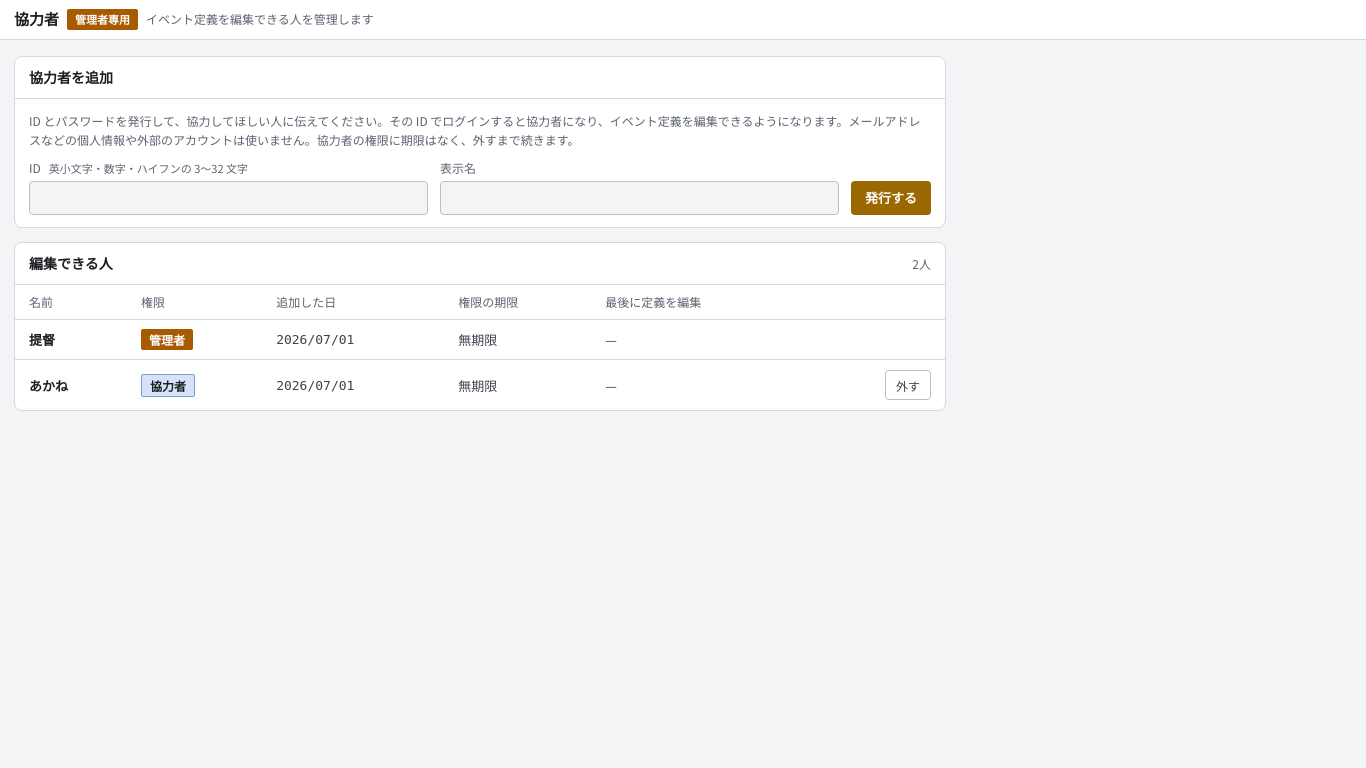
Scenario: 協力者の画面（/collaborators） › 「外す」を確認してから押すと remove_collaborator を呼び、表から消す
Click the button "外す" at (908, 385), box [885,370,931,400]
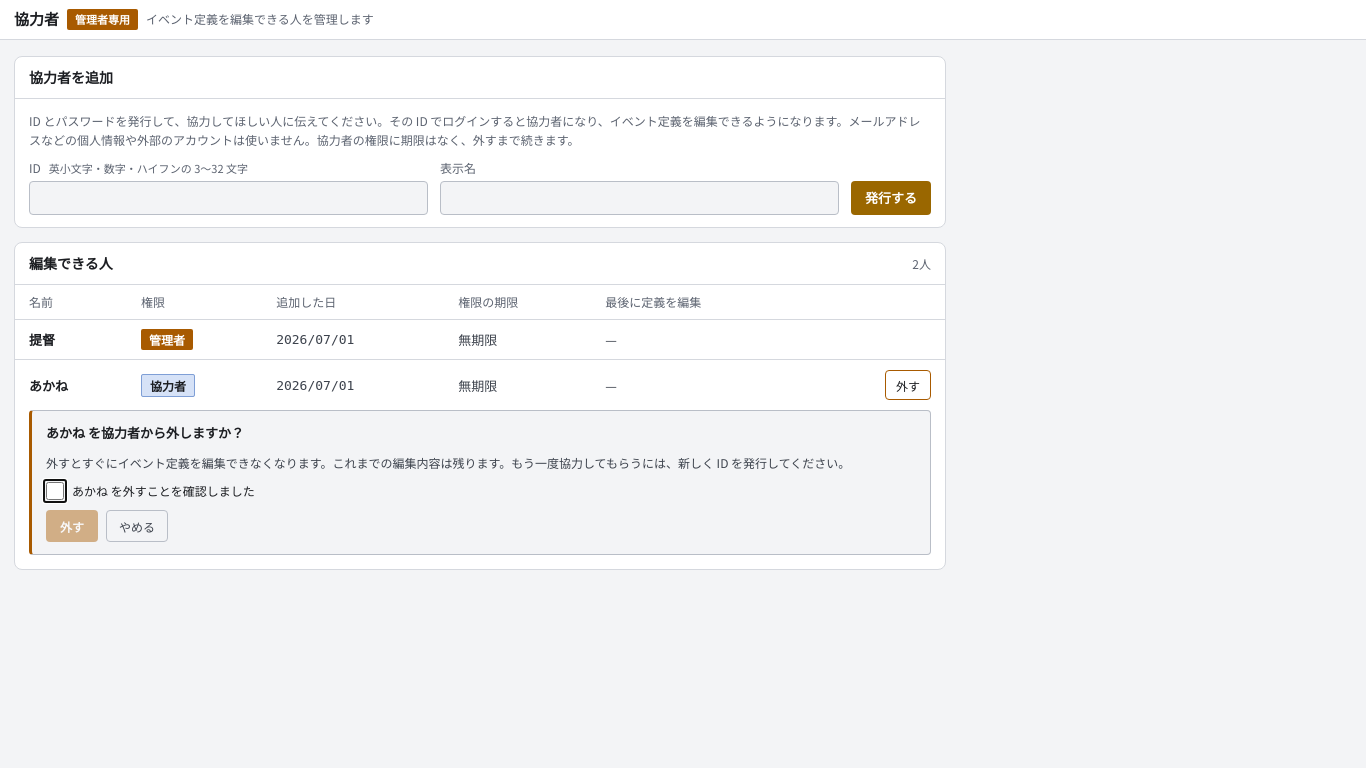
Click the checkbox labelled "あかね を外すことを確認しました" at (55, 491), box [46,482,64,500]
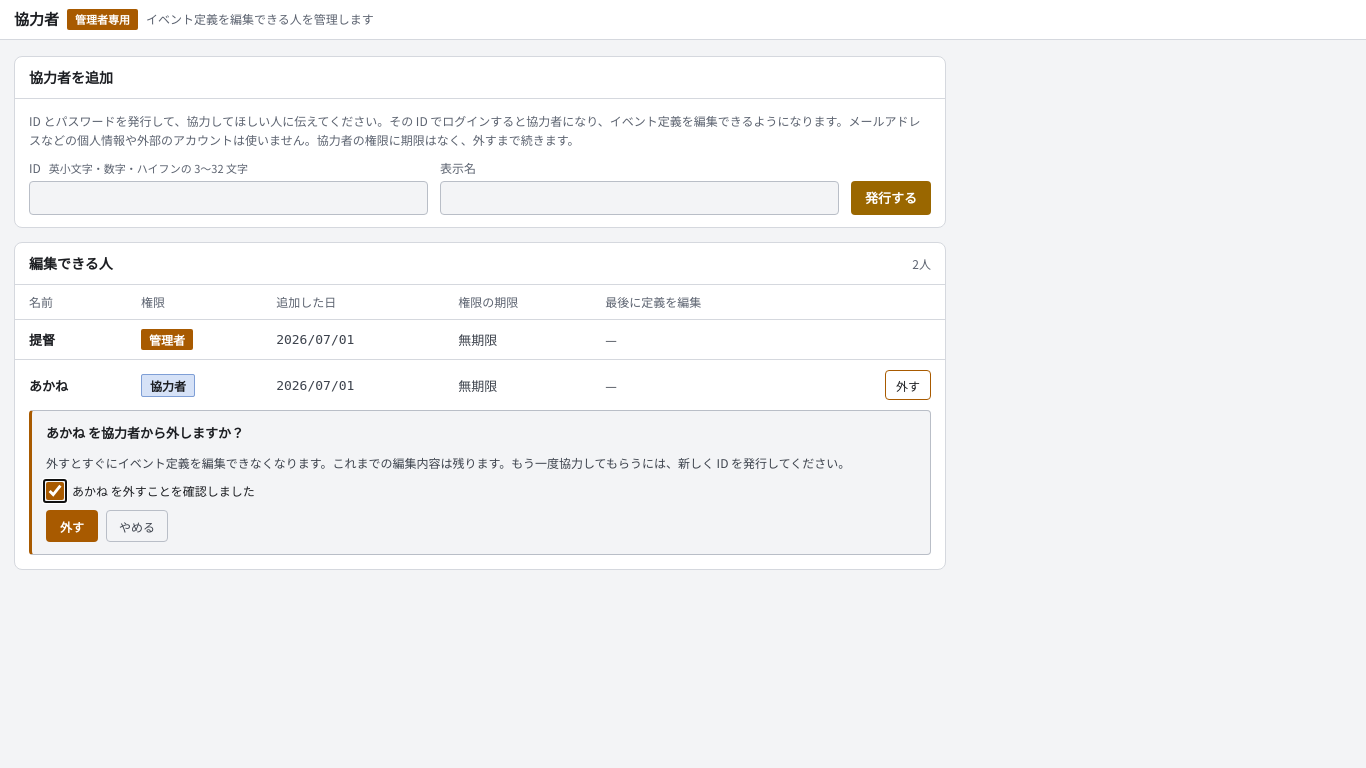
Click the button "外す" below "を外すことを確認しました" at (72, 526), box [46,510,98,542]
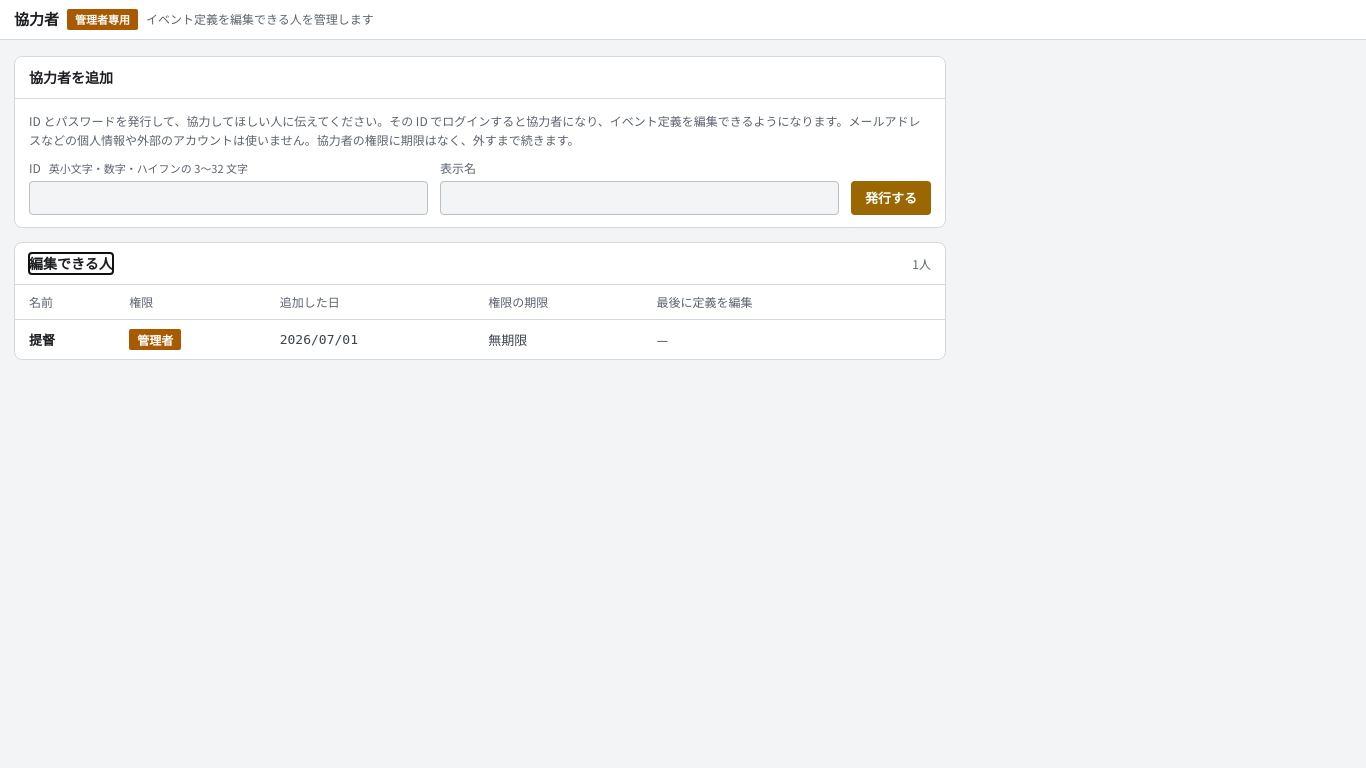
Check: the row "提督 管理者 2026/07/01 無期限 —" is shown, box [15,319,945,359]
Check: the cell "あかね" is gone
